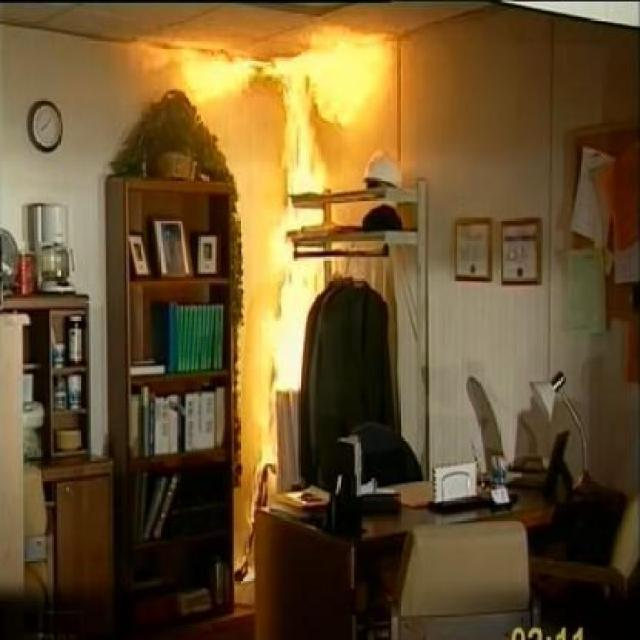Fire: (306, 26, 397, 126), (270, 50, 327, 190), (272, 294, 310, 394), (180, 48, 246, 100), (121, 32, 187, 72), (258, 316, 276, 412), (290, 262, 328, 295), (260, 412, 277, 468), (248, 61, 286, 84), (270, 230, 290, 273), (288, 208, 328, 227)
